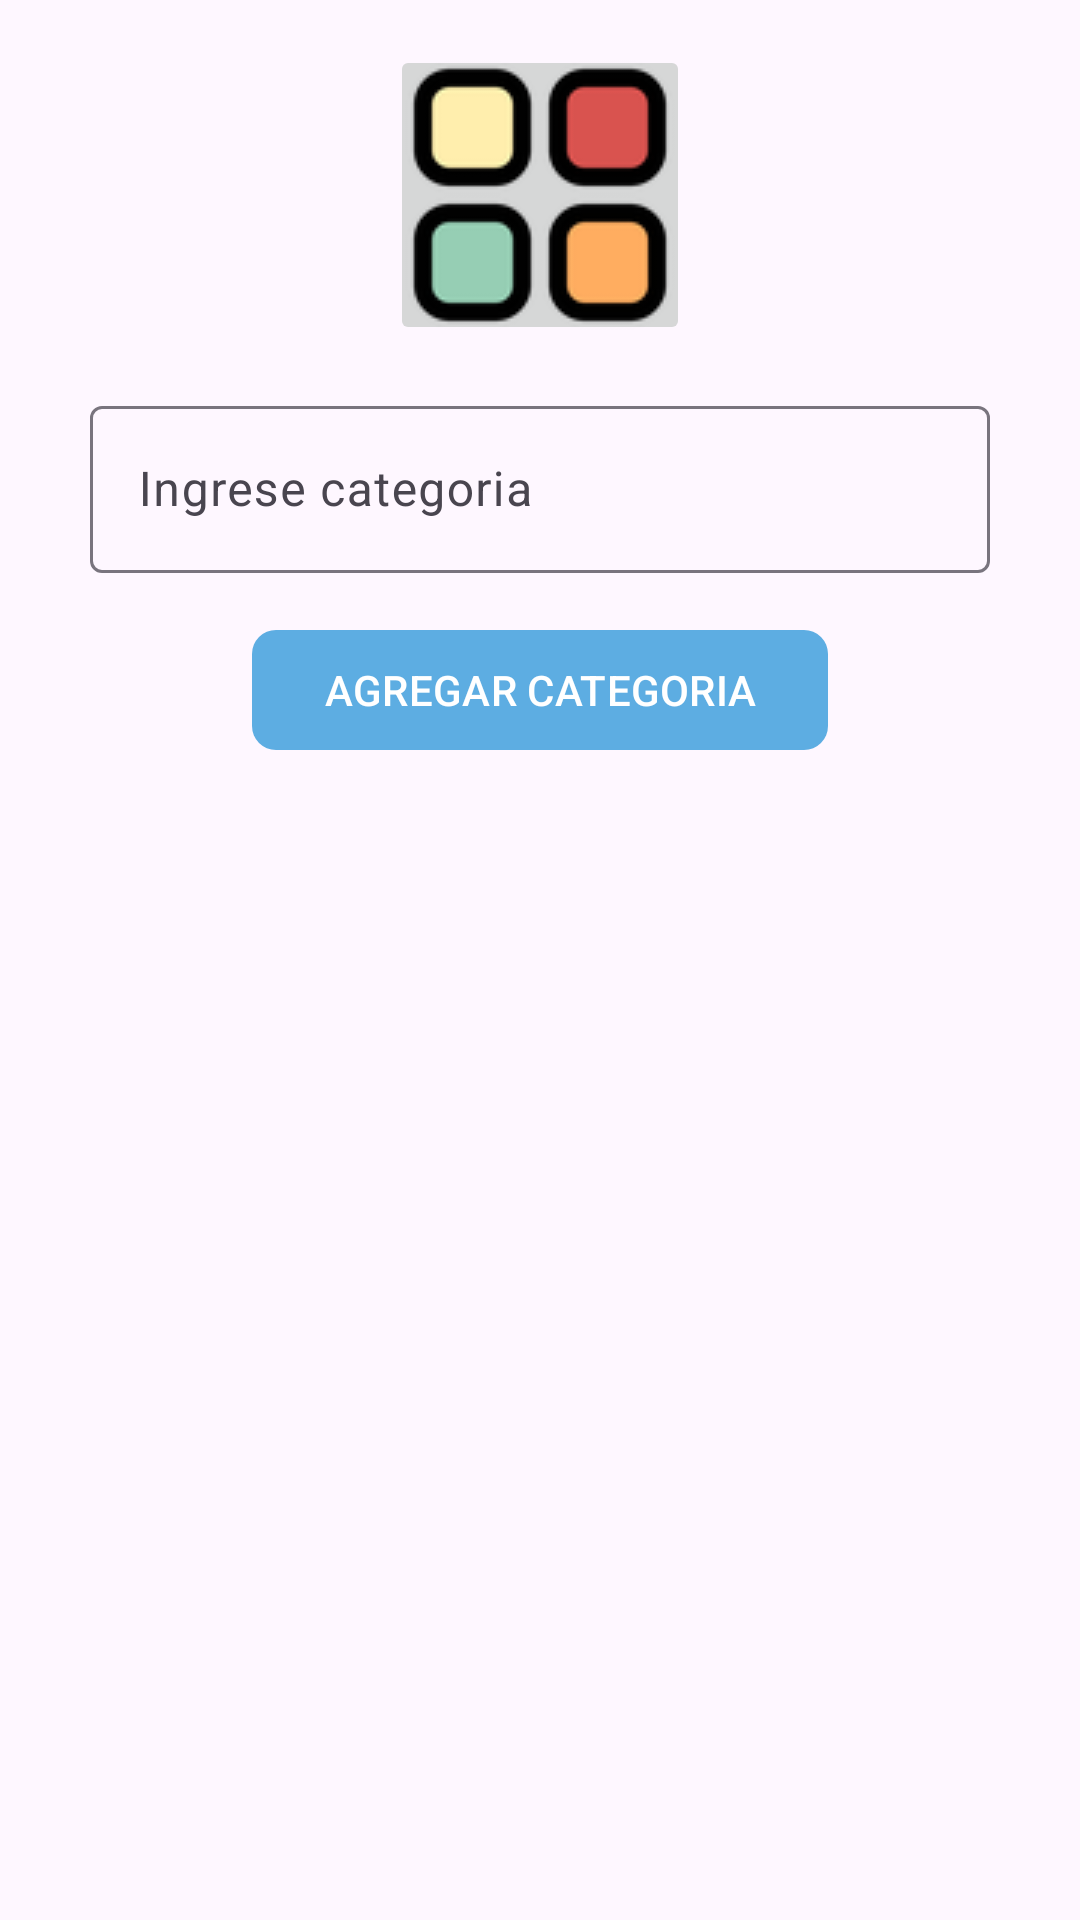

Icon bounding boxes for this 1080px x 1920px phone screenshot, format (x1, y1, x2, y2):
categorias: (402, 63, 678, 327)
